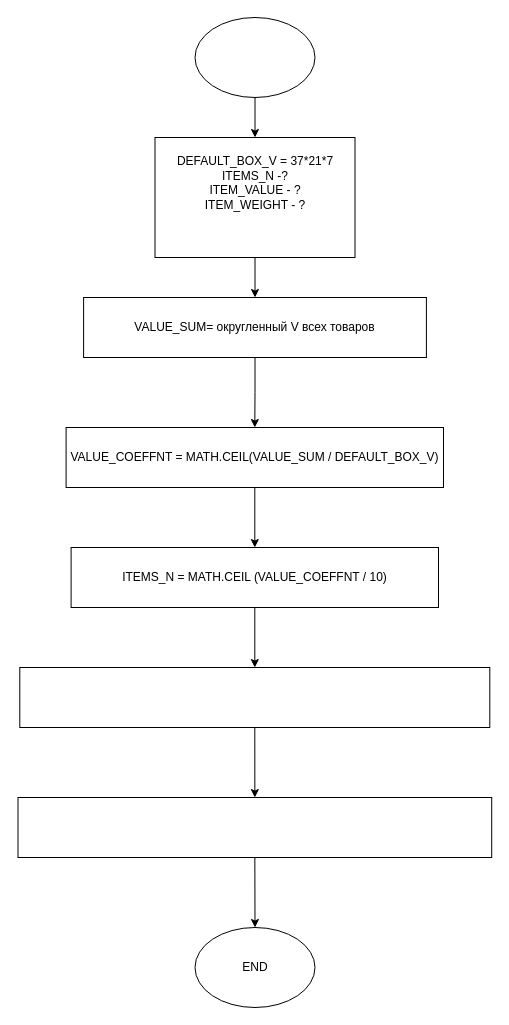
Some shapes in this 509 by 1025 pixel diagram are drawn without their labels. Each missing label, with the centre of its shape:
"ITEM_VALUE = MATH.CEIL(VALUE_COEEFNT / ITEMS_N)" belongs at point 254,697.
"ITEM_WEIGHT = MATH.CEIL(WEIGHT_SUM : ITEM_N) + 1" belongs at point 254,827.
"Start" belongs at point 254,57.
